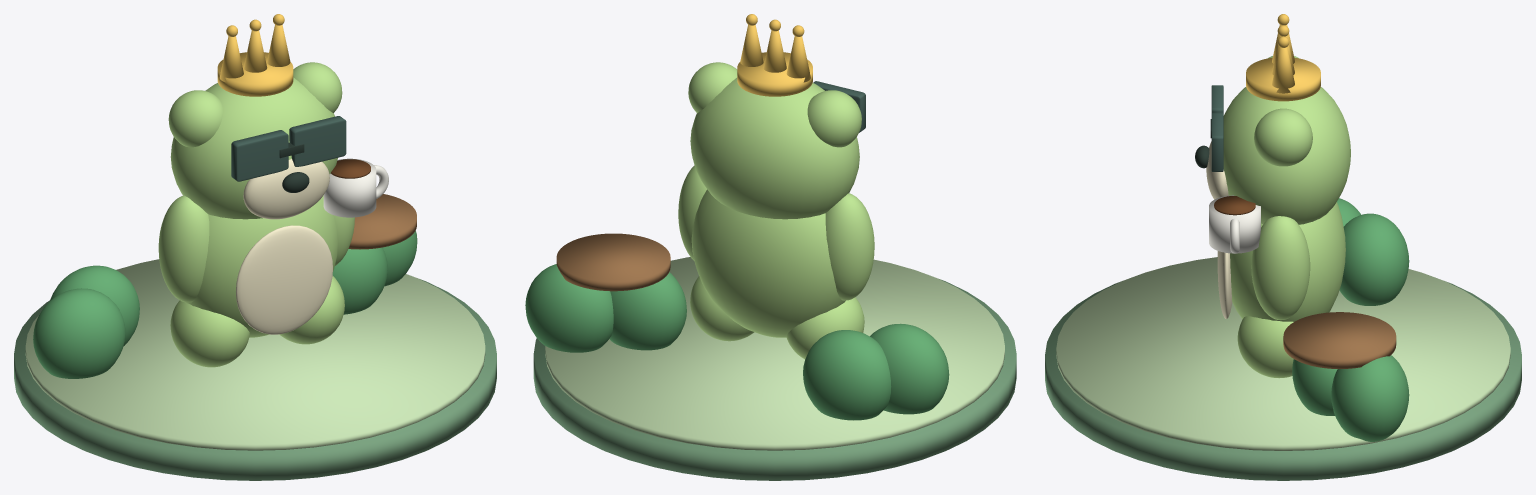
File: pebr-world.glb
3 renders of one model, left to right at view 1: azimuth 30°, elevation 25°; view 2: azimuth 150°, elevation 25°; view 3: azimuth 270°, elevation 25°, orthographic.
Parts seen in each view (by area): view 1: WorldGround, WorldPlinth, Head, Belly, GardenBush0, Body, Arm-1, Leg-1, Muzzle, GardenBush2, CafeTableTop, GardenBush1 (+13 smaller); view 2: WorldGround, WorldPlinth, Head, Body, GardenBush1, GardenBush3, CafeTableTop, GardenBush0, GardenBush2, Arm-1, Ear-1, Leg-1 (+8 smaller); view 3: WorldGround, WorldPlinth, Head, Body, CafeTableTop, GardenBush3, GardenBush1, Arm1, Ear1, Leg1, CrownBand, CoffeeCup (+6 smaller).
Boxes of the visible parts, x1,y1,x2,y2 form: WorldGround: (25, 259, 485, 450); WorldPlinth: (14, 279, 496, 480); Head: (170, 77, 337, 219); Belly: (236, 225, 332, 334); GardenBush0: (33, 288, 125, 378); Body: (186, 195, 337, 337); Arm-1: (158, 195, 209, 302); Leg-1: (170, 300, 249, 367); Muzzle: (243, 159, 329, 219); GardenBush2: (332, 247, 387, 314); CafeTableTop: (348, 194, 416, 249); GardenBush1: (50, 265, 139, 346); WorldGround: (545, 257, 1004, 450); WorldPlinth: (533, 279, 1016, 480); Head: (690, 77, 859, 219); Body: (691, 189, 845, 337); GardenBush1: (803, 330, 891, 420); GardenBush3: (525, 264, 613, 352); CafeTableTop: (556, 233, 670, 291); GardenBush0: (870, 323, 949, 414); GardenBush2: (609, 272, 686, 350); Arm-1: (825, 193, 874, 300); Ear-1: (807, 90, 861, 147); Leg-1: (786, 297, 864, 359); WorldGround: (1056, 257, 1510, 450); WorldPlinth: (1045, 281, 1521, 480); Head: (1223, 87, 1350, 224); Body: (1230, 202, 1345, 321); CafeTableTop: (1283, 312, 1396, 368); GardenBush3: (1331, 355, 1409, 441); GardenBush1: (1339, 213, 1409, 305); Arm1: (1251, 216, 1310, 320); Ear1: (1254, 108, 1312, 166); Leg1: (1237, 316, 1293, 378); CrownBand: (1246, 57, 1320, 101); CoffeeCup: (1209, 195, 1260, 253).
Size of the model in its own units: 5.5 by 4.51 by 5.5.
